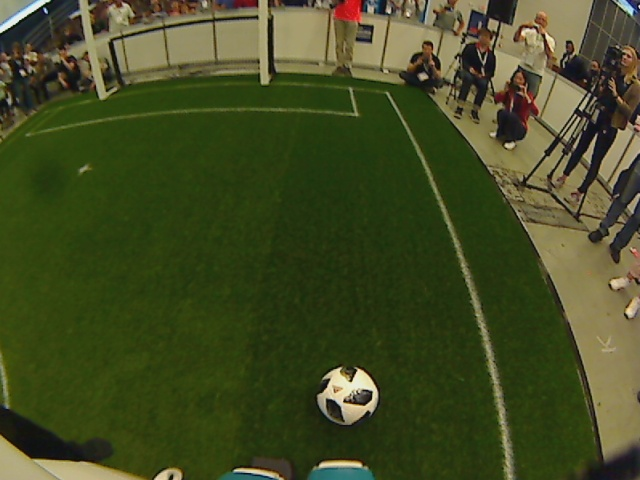ball: (316, 361, 381, 426)
